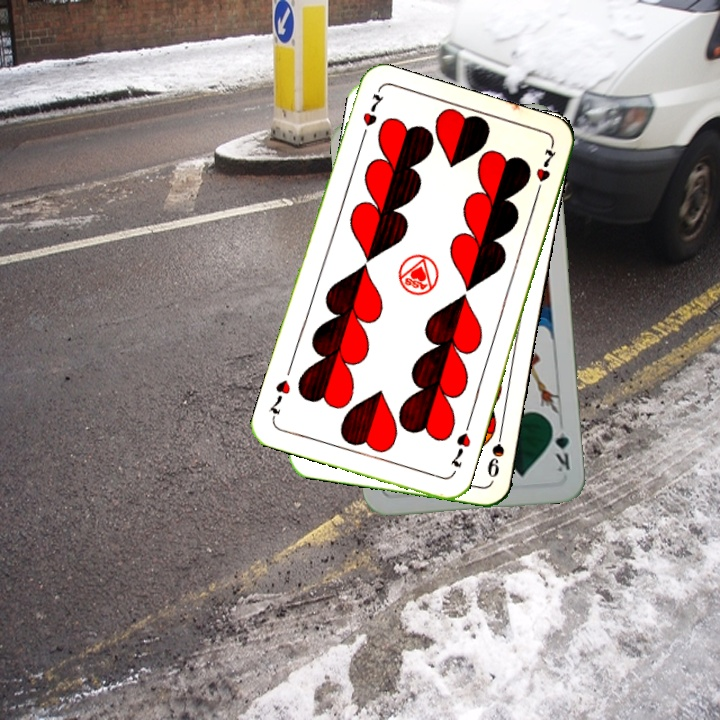GK: (547, 418, 573, 475)
H7: (356, 87, 387, 145), (446, 428, 474, 470)
S9: (483, 423, 507, 480)
